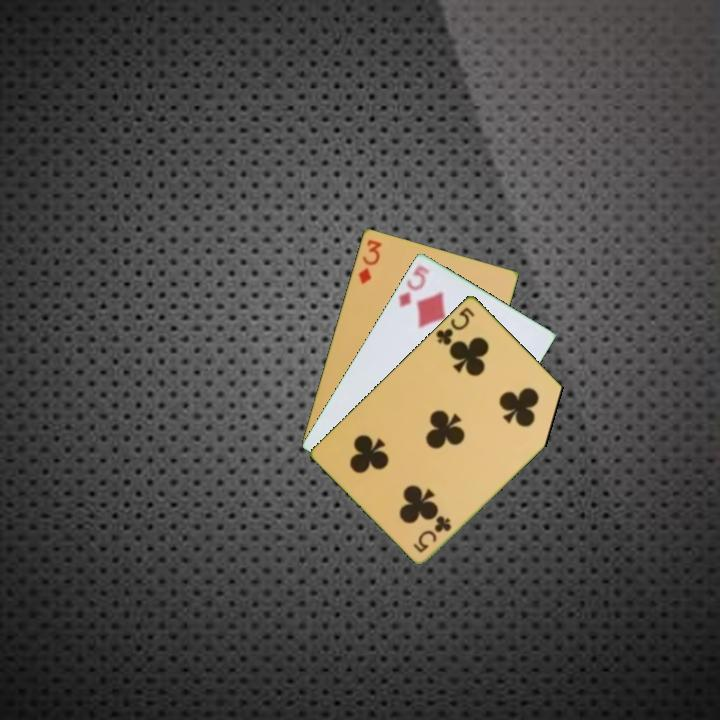3d: (354, 236, 384, 286)
5c: (432, 303, 477, 348), (409, 512, 454, 555)
5d: (395, 261, 432, 310)
